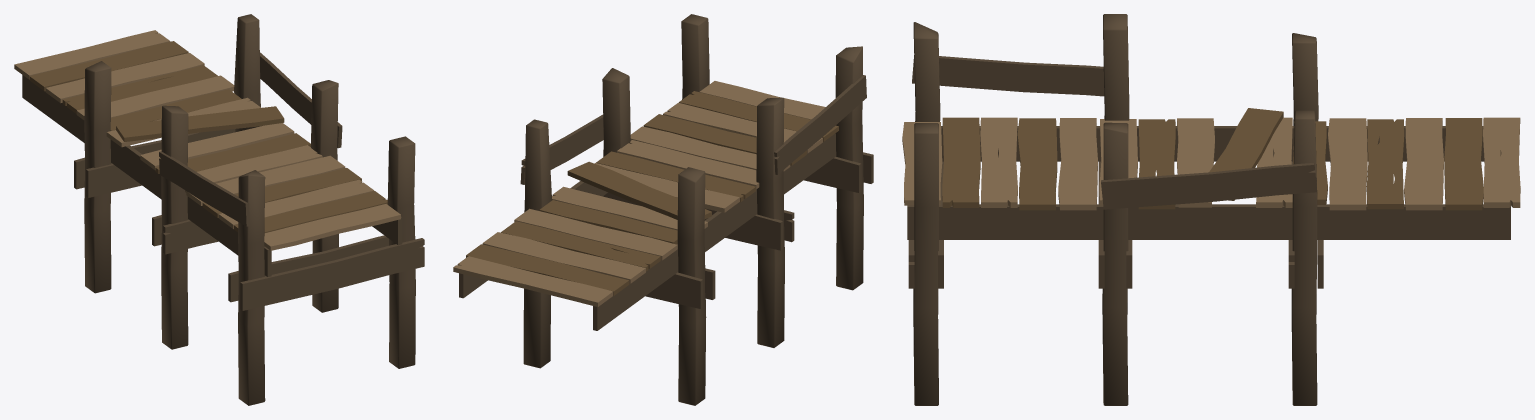
File: dock.glb
3 renders of one model, left to right at view 1: azimuth 30°, elevation 25°; view 2: azimuth 150°, elevation 25°; view 3: azimuth 270°, elevation 25°, orthographic. The views are drawn at different scales.
Parts seen in each view (by area): view 1: Dock; view 2: Dock; view 3: Dock.
Part boxes in pixels (<box>): Dock: <box>14,14,424,405</box>; Dock: <box>453,14,873,405</box>; Dock: <box>902,14,1520,405</box>.
Bounding box in the file's own units: 4.32 × 5.38 × 10.32.
